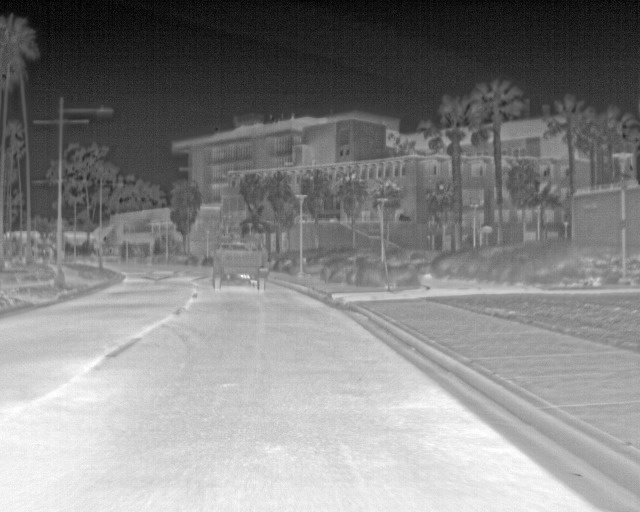vehicle: (210, 236, 266, 291)
